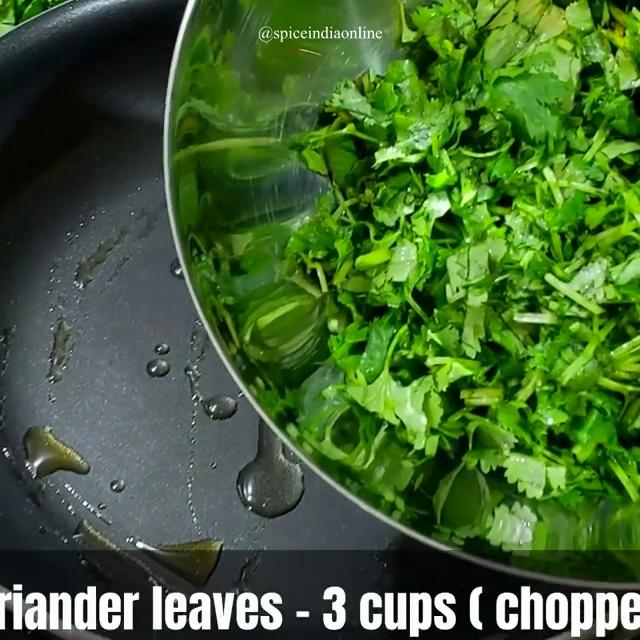cilantro: (379, 0, 640, 461)
